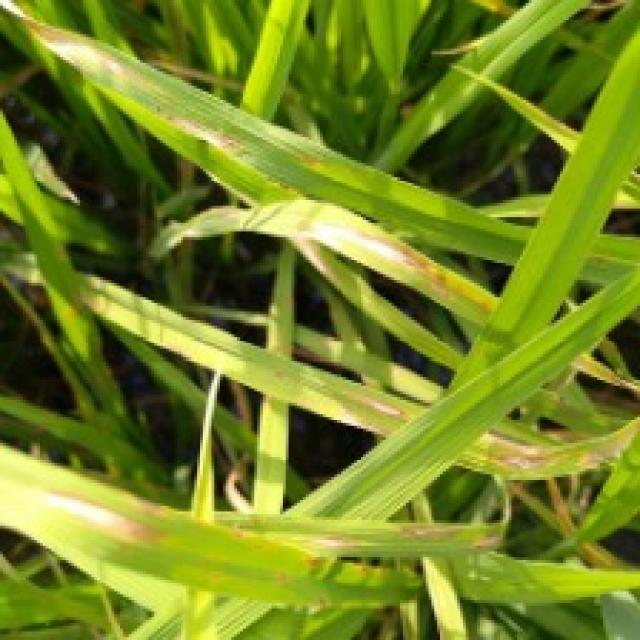Rice_Blast: (276, 203, 506, 323), (0, 0, 163, 100), (18, 482, 174, 558), (146, 109, 249, 164), (473, 427, 569, 482), (330, 390, 422, 442), (396, 515, 482, 547), (290, 526, 365, 558)
